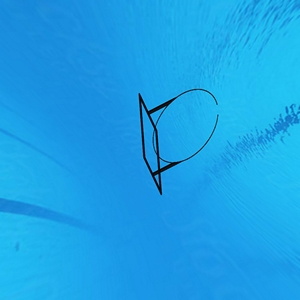circle: (136, 88, 222, 197)
